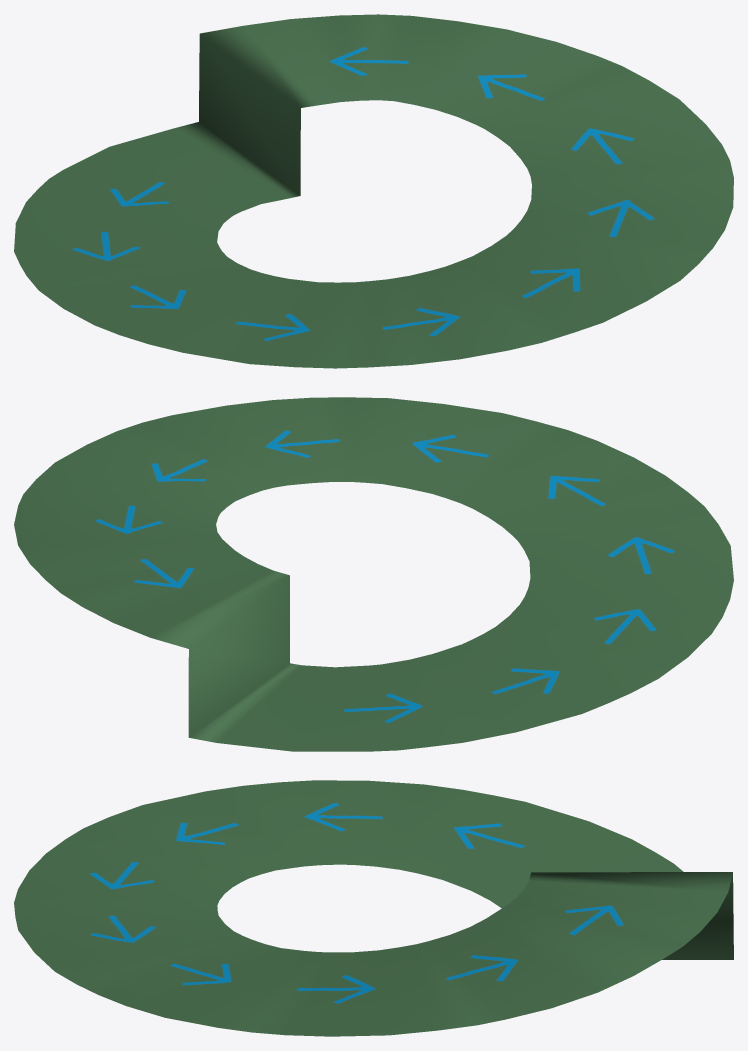
Rendered from mesh_tut_signage_arrows.glb.
3 renders of one model, top to bottom at view 1: azimuth 30°, elevation 25°; view 2: azimuth 150°, elevation 25°; view 3: azimuth 270°, elevation 25°, orthographic.
Visible parts, largest first — view 1: mesh_tut_signage_arrows; view 2: mesh_tut_signage_arrows; view 3: mesh_tut_signage_arrows.
Part boxes in pixels (x1=…): mesh_tut_signage_arrows: x1=14, y1=14, x2=733, y2=368; mesh_tut_signage_arrows: x1=14, y1=397, x2=733, y2=751; mesh_tut_signage_arrows: x1=14, y1=780, x2=733, y2=1036.
Size of the model in its own units: 12.7 by 1.72 by 12.71.
Materials: 1 (1 with a texture image).
